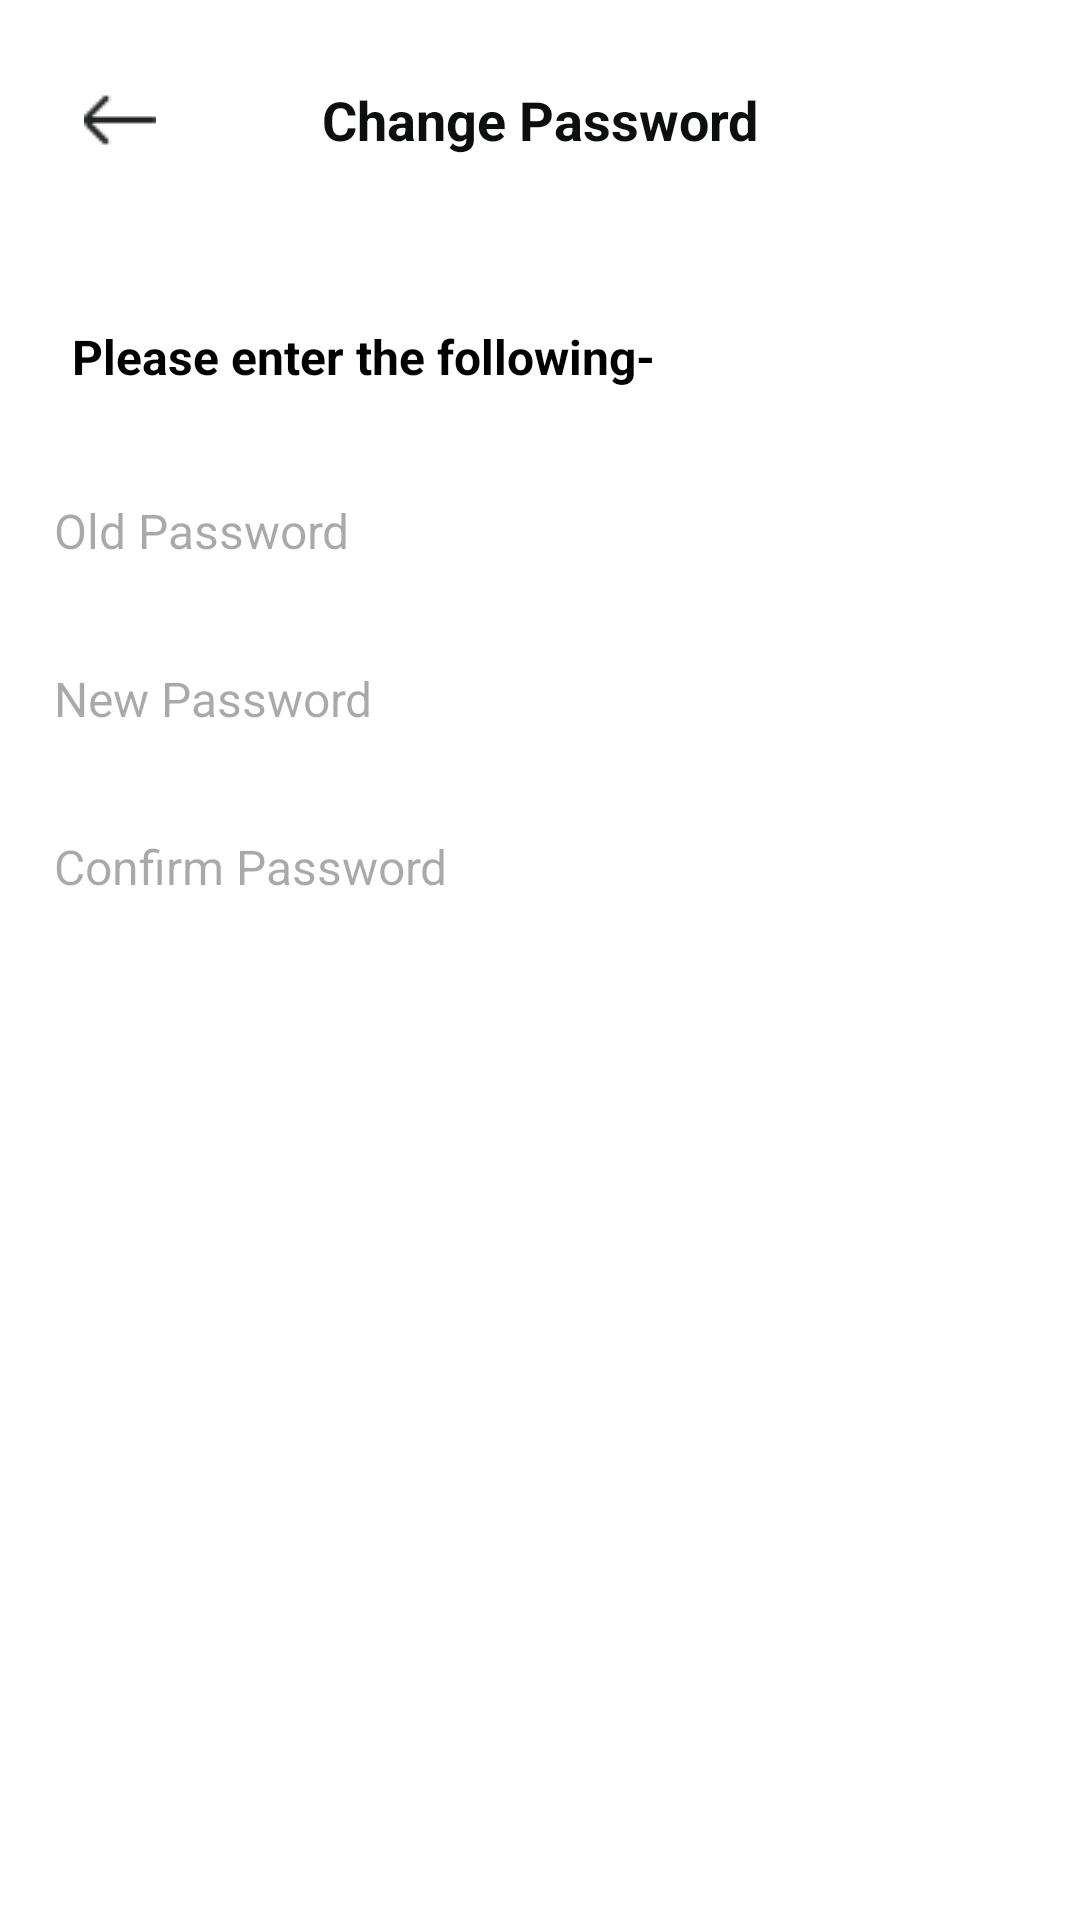

Where icons sit on this 1080px x 1920px app screen, as bbox=[x1, y1, x2, y2]:
back arrow: bbox=[84, 95, 156, 145]
